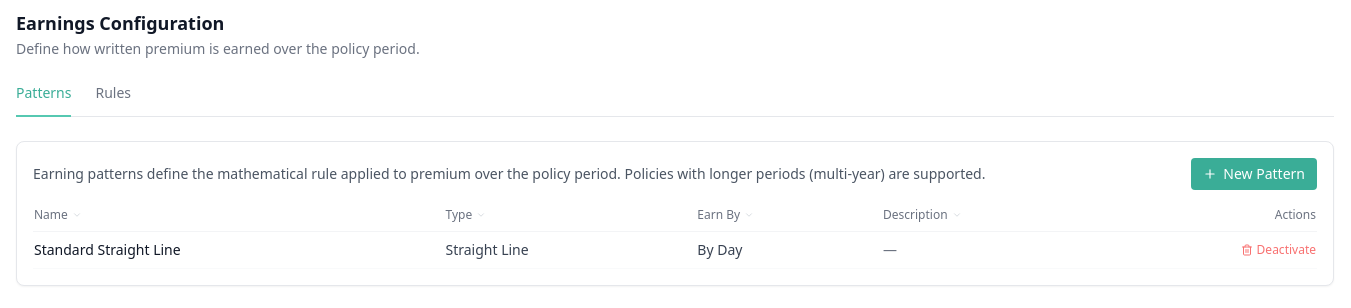
T-EARN-R06: Deactivate pattern removes it from list › removes pattern row after deactivation
Expected: the text "Standard Straight Line" is shown, [33,232,444,268]
Step 1. Click the button with aria-label "Deactivate Standard Straight Line" → (1278, 250), box [1241,242,1316,258]
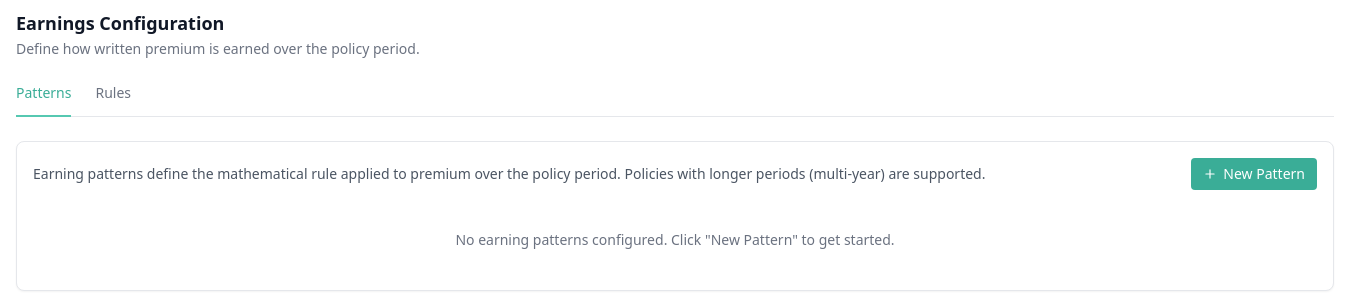
Now the text "Standard Straight Line" is gone
